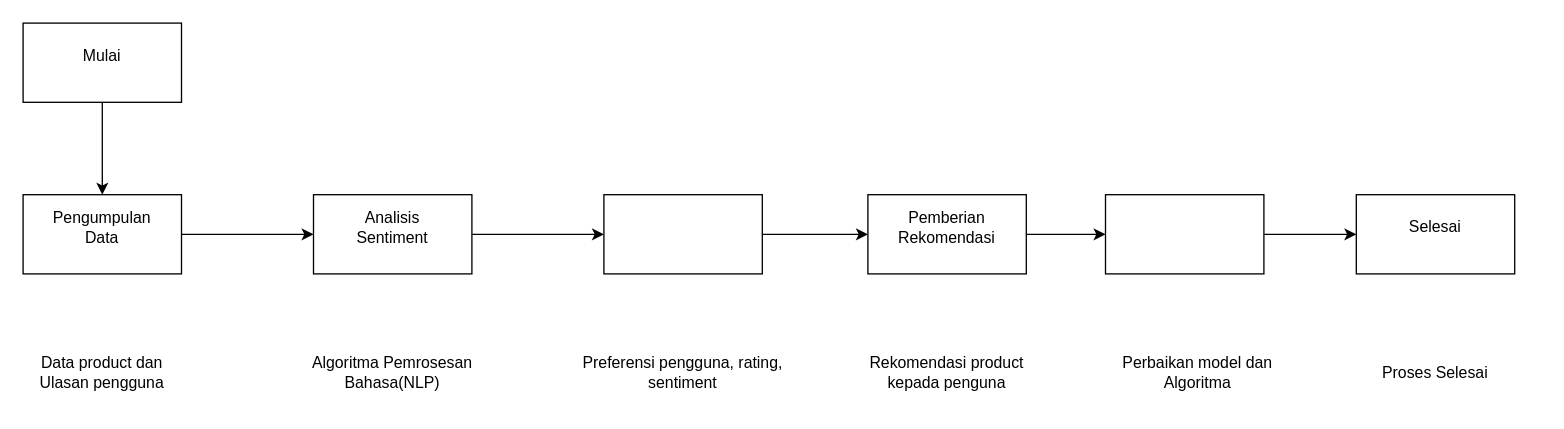
Image size: 1564x429. Some labels were removed from this diagram. Here are the shapes that lost their labels. From the top down, the centre of each, then its label:
At (x=682, y=233): "Pengolahan Data".
At (x=1184, y=233): "Evaluasi dan Pembaruan".
